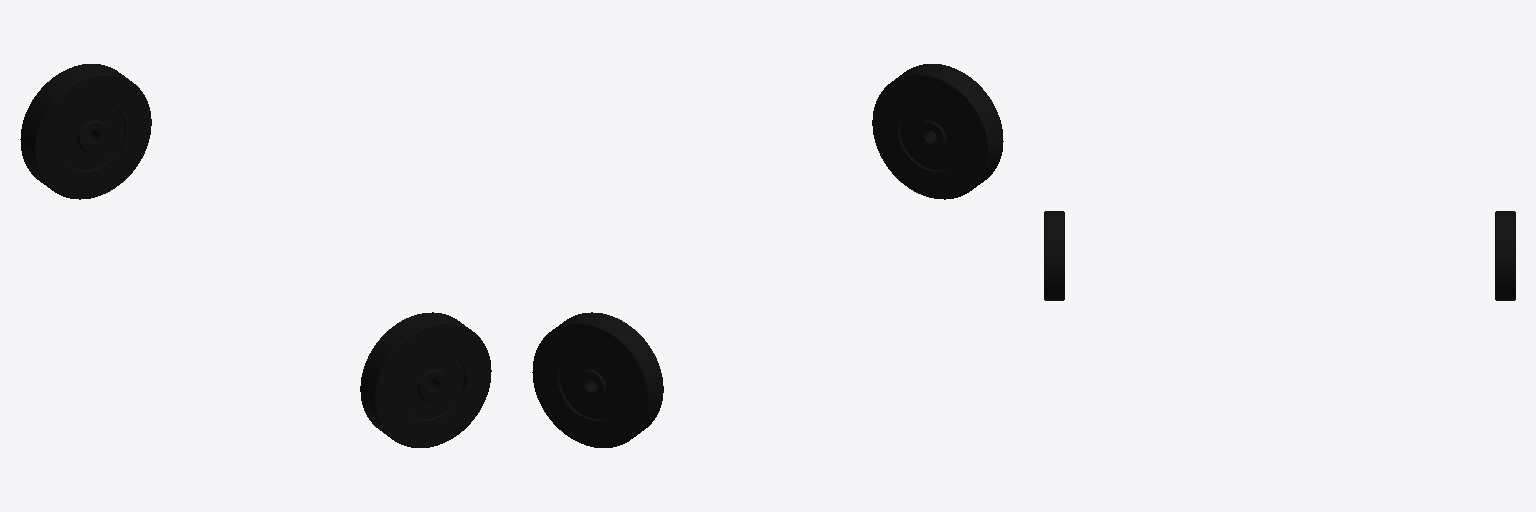
URDF robot description (One_wheel_frame_Assembly_v2):
<?xml version="1.0" encoding="utf-8"?>
<!-- This URDF was automatically created by SolidWorks to URDF Exporter! Originally created by [author] ([email redacted]) 
     Commit Version: 1.6.0-4-g7f85cfe  Build Version: 1.6.7995.38578
     For more information, please see http://wiki.ros.org/sw_urdf_exporter -->
<robot
  name="One_wheel_frame_Assembly_v2">
  <link
    name="chassis_link">
    <inertial>
      <origin
        xyz="-0.36556 0.0049205 -0.07701"
        rpy="0 0 0" />
      <mass
        value="2.0686" />
      <inertia
        ixx="0.034031"
        ixy="9.0833E-08"
        ixz="-0.00017281"
        iyy="0.018983"
        iyz="-9.0884E-08"
        izz="0.050597" />
    </inertial>
    <visual>
      <origin
        xyz="0 0 0"
        rpy="0 0 0" />
      <geometry>
        <mesh
          filename="package://One_wheel_frame_Assembly_v2/meshes/chassis_link.STL" />
      </geometry>
      <material
        name="">
        <color
          rgba="0.79216 0.81961 0.93333 1" />
      </material>
    </visual>
    <collision>
      <origin
        xyz="0 0 0"
        rpy="0 0 0" />
      <geometry>
        <mesh
          filename="package://One_wheel_frame_Assembly_v2/meshes/chassis_link.STL" />
      </geometry>
    </collision>
  </link>
  <link
    name="chassis_wheel_left">
    <inertial>
      <origin
        xyz="0 0 -1.1102E-16"
        rpy="0 0 0" />
      <mass
        value="0.32038" />
      <inertia
        ixx="0.00034759"
        ixy="2.9876E-20"
        ixz="-2.3616E-20"
        iyy="0.00034759"
        iyz="2.0496E-20"
        izz="0.00065681" />
    </inertial>
    <visual>
      <origin
        xyz="0 0 0"
        rpy="0 0 0" />
      <geometry>
        <mesh
          filename="package://One_wheel_frame_Assembly_v2/meshes/chassis_wheel_left.STL" />
      </geometry>
      <material
        name="">
        <color
          rgba="0.1098 0.1098 0.1098 1" />
      </material>
    </visual>
    <collision>
      <origin
        xyz="0 0 0"
        rpy="0 0 0" />
      <geometry>
        <mesh
          filename="package://One_wheel_frame_Assembly_v2/meshes/chassis_wheel_left.STL" />
      </geometry>
    </collision>
  </link>
  <joint
    name="chassis_wheel_left_joint"
    type="continuous">
    <origin
      xyz="-0.6824 0.31992 -0.4201"
      rpy="1.5708 0 3.1416" />
    <parent
      link="chassis_link" />
    <child
      link="chassis_wheel_left" />
    <axis
      xyz="0 0 -1" />
  </joint>
  <link
    name="chassis_wheel_right">
    <inertial>
      <origin
        xyz="0 0 0"
        rpy="0 0 0" />
      <mass
        value="0.32038" />
      <inertia
        ixx="0.00034759"
        ixy="4.2291E-20"
        ixz="2.5691E-19"
        iyy="0.00034759"
        iyz="-8.5856E-21"
        izz="0.00065681" />
    </inertial>
    <visual>
      <origin
        xyz="0 0 0"
        rpy="0 0 0" />
      <geometry>
        <mesh
          filename="package://One_wheel_frame_Assembly_v2/meshes/chassis_wheel_right.STL" />
      </geometry>
      <material
        name="">
        <color
          rgba="0.1098 0.1098 0.1098 1" />
      </material>
    </visual>
    <collision>
      <origin
        xyz="0 0 0"
        rpy="0 0 0" />
      <geometry>
        <mesh
          filename="package://One_wheel_frame_Assembly_v2/meshes/chassis_wheel_right.STL" />
      </geometry>
    </collision>
  </link>
  <joint
    name="chassis_wheel_right_joint"
    type="continuous">
    <origin
      xyz="-0.6824 -0.31008 -0.4201"
      rpy="1.5708 0 3.1416" />
    <parent
      link="chassis_link" />
    <child
      link="chassis_wheel_right" />
    <axis
      xyz="0 0 -1" />
  </joint>
</robot>

--- What the picture shows (computed from the rendered views, not written in the file) ---
The picture shows the robot from 3 angles, left to right: view 1: azimuth 30°, elevation 25°; view 2: azimuth 150°, elevation 25°; view 3: azimuth 270°, elevation 25°; orthographic projection.
Robot: One_wheel_frame_Assembly_v2 — 3 links, 2 joints (2 continuous); root link chassis_link; default pose: all joints at 0.
Visible links, largest first — view 1: chassis_wheel_left, chassis_wheel_right; view 2: chassis_wheel_left, chassis_wheel_right; view 3: chassis_wheel_left, chassis_wheel_right.
Boxes of the visible links, x1,y1,x2,y2 form: chassis_wheel_left: [20, 64, 151, 199]; chassis_wheel_right: [360, 312, 491, 447]; chassis_wheel_left: [532, 312, 663, 447]; chassis_wheel_right: [872, 64, 1003, 199]; chassis_wheel_left: [1495, 211, 1515, 300]; chassis_wheel_right: [1044, 211, 1064, 300].
Size in the robot's own frame: 0.125 by 0.658 by 0.125 metres.
2 mesh visuals loaded from 3 distinct referenced files (2 binary STL); not drawn: 1 (reference not matched to a file when rendering).